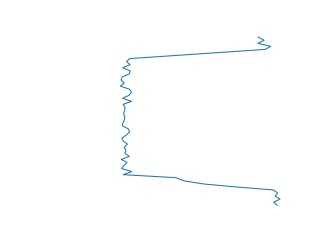distributaryChannelFill: (115, 36, 283, 206)
